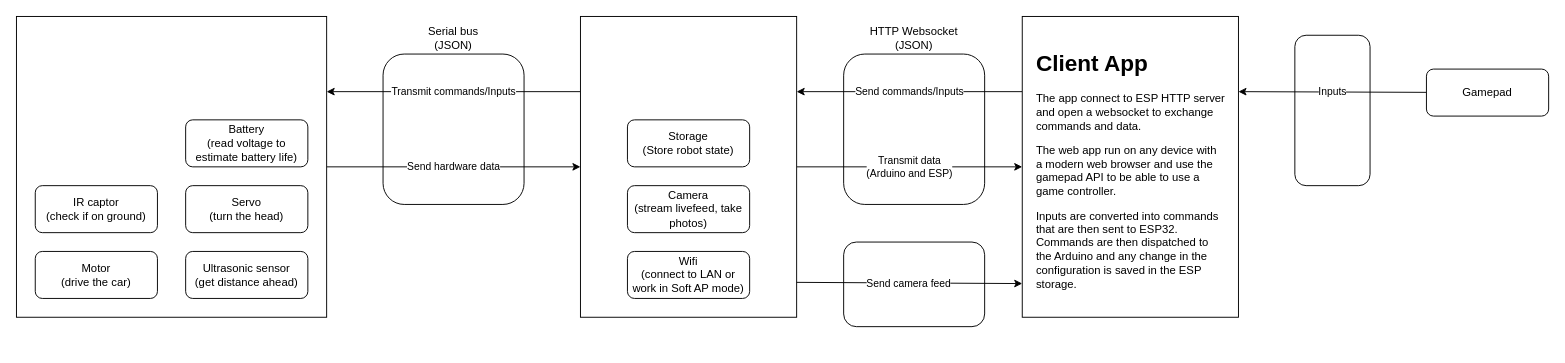
The diagram is 1565 pixels wide and 363 high, and some of its shapes have lost their labels. The box of each missing label's shape, as (x1, y1, x2, y2) in pixels:
Arduino: (16, 16, 327, 317)
ESP32: (580, 16, 797, 317)
HTTP multipart: (843, 241, 985, 327)
Mobile phone/computer: (1021, 16, 1238, 317)
Wifi/Bluetooth: (1294, 34, 1370, 186)
